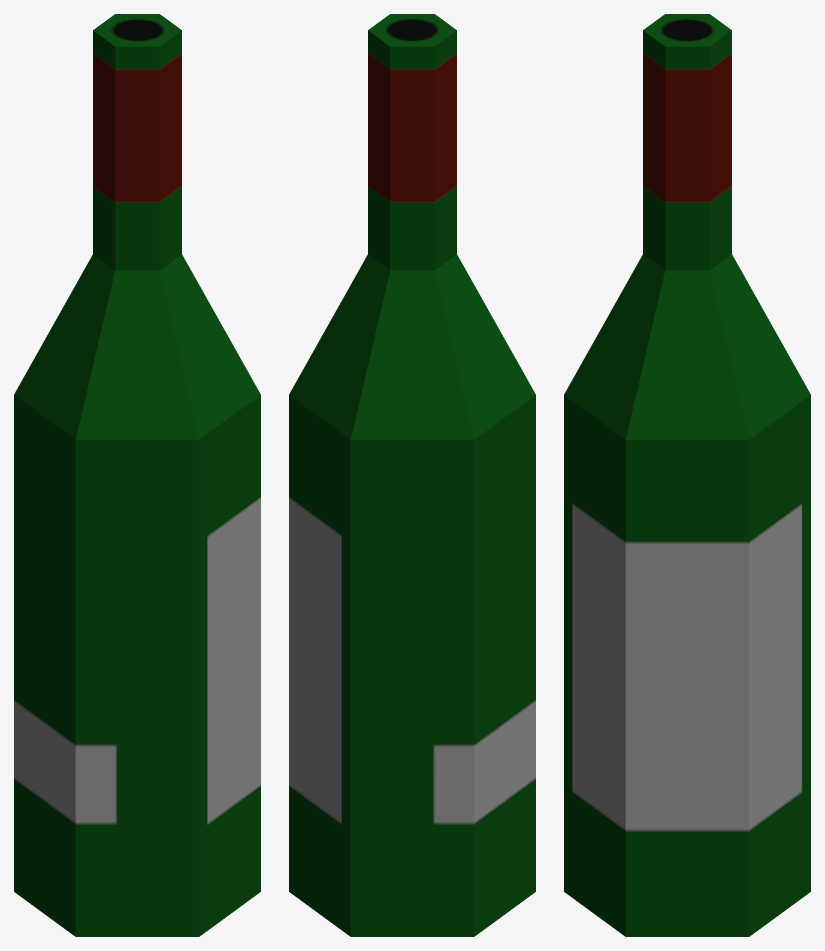
The model's file is wine-bottle.glb.
3 renders of one model, left to right at view 1: azimuth 30°, elevation 25°; view 2: azimuth 150°, elevation 25°; view 3: azimuth 270°, elevation 25°, orthographic.
Parts seen in each view (by area): view 1: wine-bottle; view 2: wine-bottle; view 3: wine-bottle.
Boxes of the visible parts, x1,y1,x2,y2 form: wine-bottle: [14, 14, 260, 936]; wine-bottle: [289, 14, 535, 936]; wine-bottle: [564, 14, 810, 936].
Size of the model in its own units: 0.0687 by 0.3052 by 0.0793.
1 material, 1 textured.
